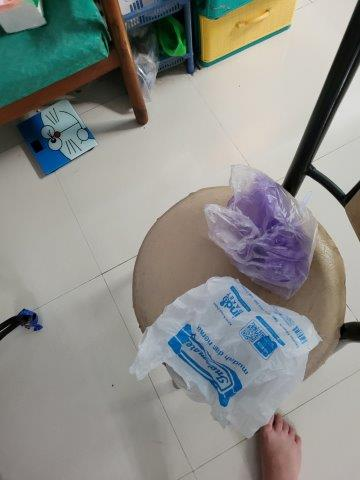plastik: (133, 280, 323, 436), (204, 166, 319, 289)
